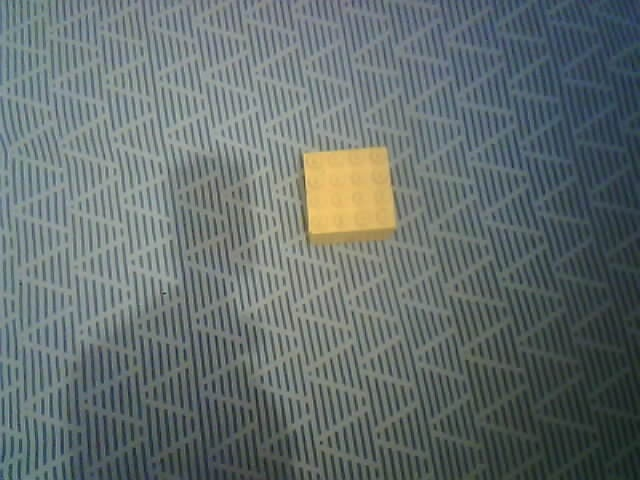lego: (301, 146, 398, 246)
